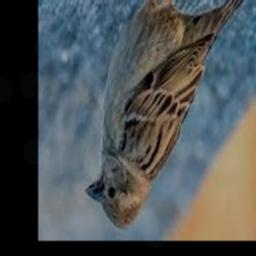Sparrow: (85, 0, 256, 229)
